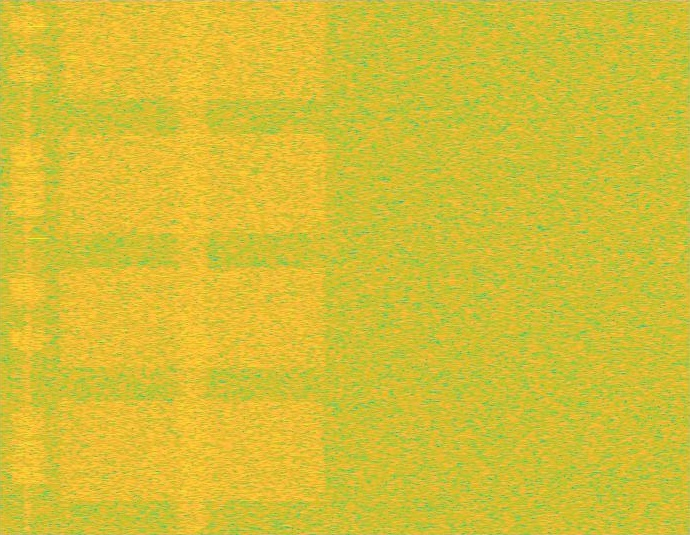5G: (55, 0, 331, 534)
DSSS: (174, 0, 211, 534), (24, 0, 32, 534)
LTE: (11, 0, 45, 534)
Radar: (32, 0, 45, 534)
